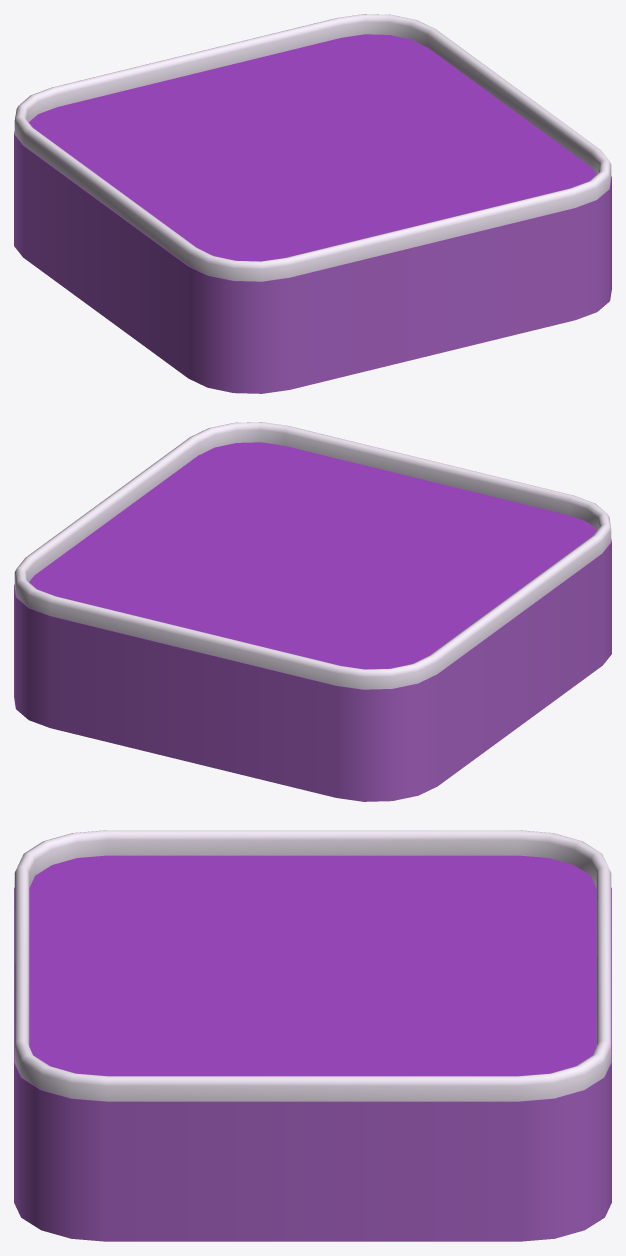
File: cupboard_1.fbx
3 views of the same model, one above another, from view 1: azimuth 30°, elevation 25°; view 2: azimuth 150°, elevation 25°; view 3: azimuth 270°, elevation 25° (orthographic). The views are drawn at different scales.
Parts seen in each view (by area): view 1: cupboard_1; view 2: cupboard_1; view 3: cupboard_1.
Part boxes in pixels (x1,y1,x2,y2): cupboard_1: (14, 14, 611, 393); cupboard_1: (14, 422, 611, 801); cupboard_1: (14, 830, 611, 1241).
Bounding box in the file's own units: 200 × 59.76 × 200.
